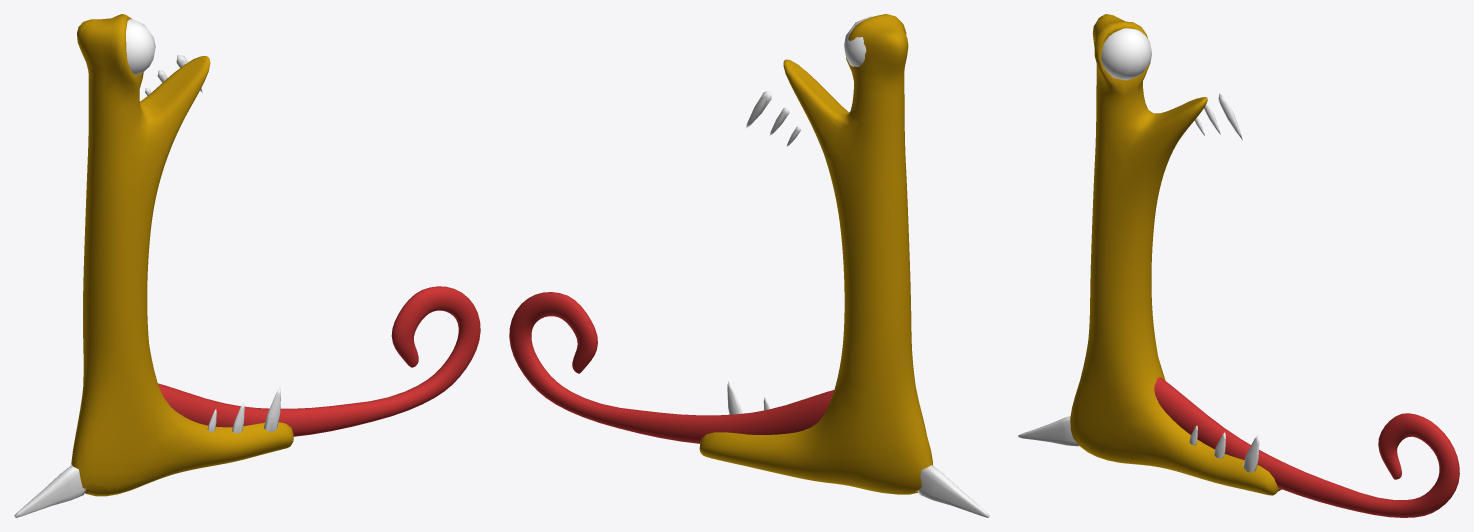
3 views of the same model, side by side, from view 1: azimuth 30°, elevation 25°; view 2: azimuth 150°, elevation 25°; view 3: azimuth 330°, elevation 25° (orthographic). The views are drawn at different scales.
Parts seen in each view (by area): view 1: Group64415, Group34664, Box039, Sphere024, Box040; view 2: Group64415, Group34664, Box039, Box040, Sphere024; view 3: Group64415, Group34664, Sphere024, Box040, Box039.
Boxes of the visible parts, x1=… form: Group64415: x1=71, y1=14, x2=293, y2=496; Group34664: x1=158, y1=286, x2=480, y2=436; Box039: x1=14, y1=465, x2=85, y2=517; Sphere024: x1=126, y1=19, x2=155, y2=75; Box040: x1=145, y1=54, x2=280, y2=433; Group64415: x1=699, y1=14, x2=932, y2=494; Group34664: x1=509, y1=292, x2=834, y2=443; Box039: x1=918, y1=465, x2=989, y2=517; Box040: x1=727, y1=90, x2=800, y2=414; Sphere024: x1=844, y1=16, x2=872, y2=66; Group64415: x1=1070, y1=14, x2=1281, y2=495; Group34664: x1=1154, y1=377, x2=1459, y2=517; Sphere024: x1=1101, y1=28, x2=1151, y2=80; Box040: x1=1189, y1=93, x2=1259, y2=472; Box039: x1=1018, y1=416, x2=1078, y2=446.
Bounding box in the file's own units: 0.1687 × 0.1619 × 0.0266.
